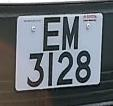1: (45, 51, 56, 89)
2: (55, 51, 75, 85)
3: (26, 49, 47, 91)
8: (74, 49, 93, 84)
E: (40, 13, 62, 54)
M: (60, 11, 82, 54)
